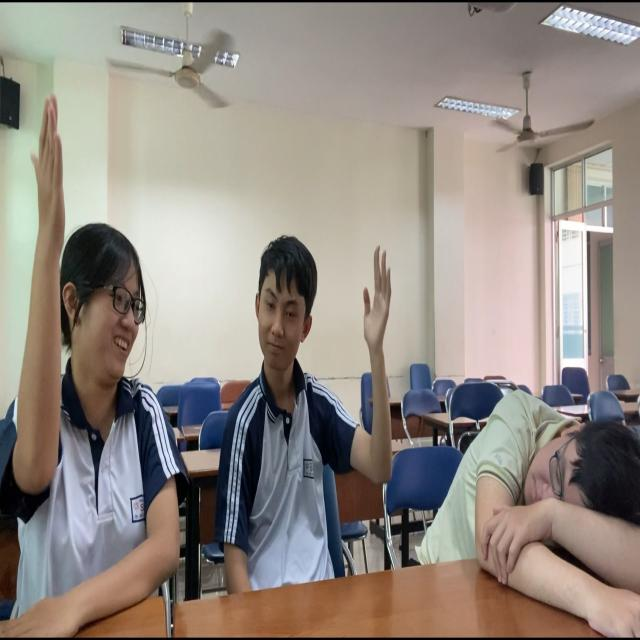raise_hand: (1, 91, 184, 640), (221, 218, 395, 616)
sleep: (437, 362, 640, 631)
